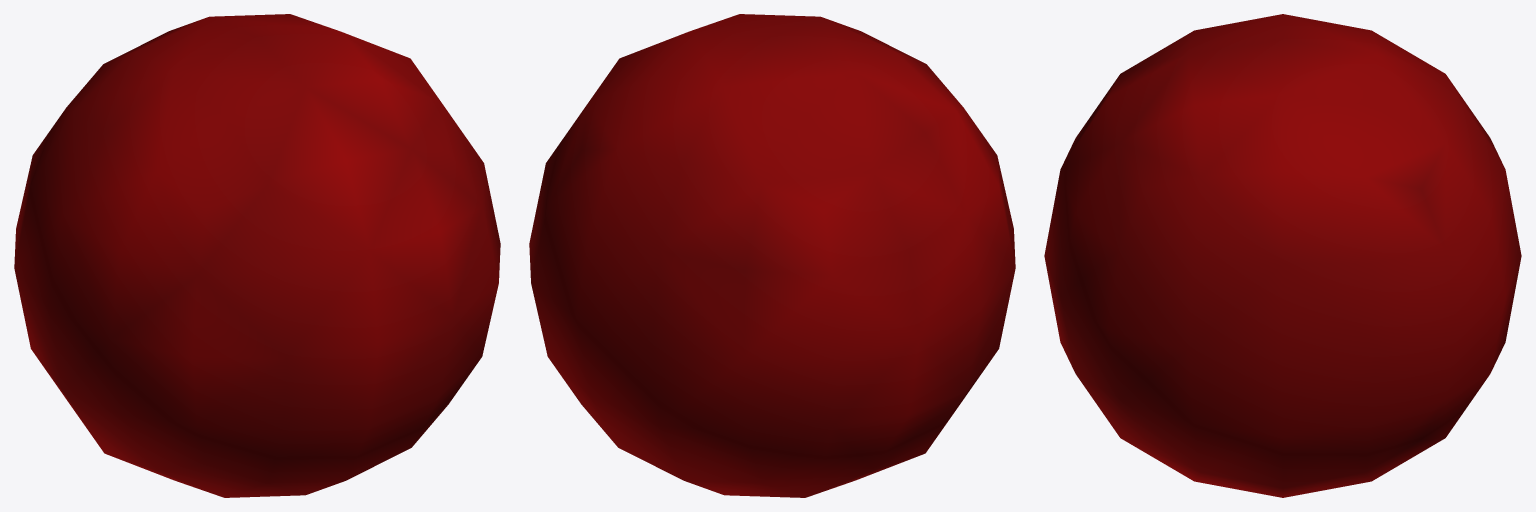
File: microscopic-dust-particles-red-particle_v1.glb
The picture shows the model from 3 angles, left to right: view 1: azimuth 30°, elevation 25°; view 2: azimuth 150°, elevation 25°; view 3: azimuth 270°, elevation 25°; orthographic projection.
Visible parts, largest first — view 1: Red Particle; view 2: Red Particle; view 3: Red Particle.
Boxes of the visible parts, left/top/right/bottom form: Red Particle: left=14, top=14, right=500, bottom=497; Red Particle: left=529, top=14, right=1015, bottom=497; Red Particle: left=1044, top=14, right=1521, bottom=497.
Size of the model in its own units: 0.1 by 0.1 by 0.1.
